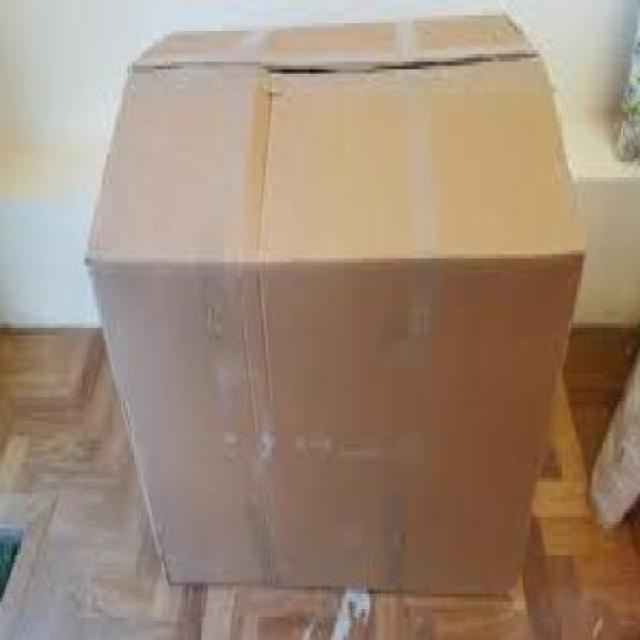box: (73, 8, 595, 620)
